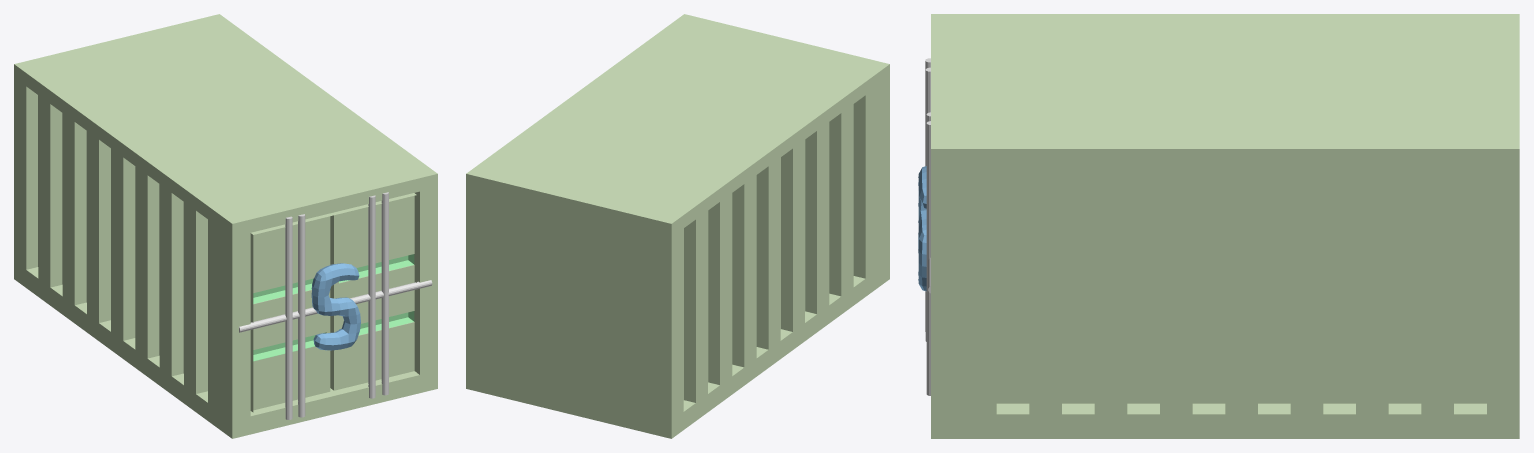
File: crates 4.fbx
3 views of the same model, side by side, from view 1: azimuth 30°, elevation 25°; view 2: azimuth 150°, elevation 25°; view 3: azimuth 270°, elevation 25° (orthographic). The views are drawn at different scales.
Visible parts, largest first — view 1: Cylinder.004; view 2: Cylinder.004; view 3: Cylinder.004.
Boxes of the visible parts, <box> form: Cylinder.004: <box>14,14,437,438</box>; Cylinder.004: <box>466,14,889,438</box>; Cylinder.004: <box>918,14,1519,438</box>.
Size of the model in its own units: 4.58 by 4.58 by 8.61.
